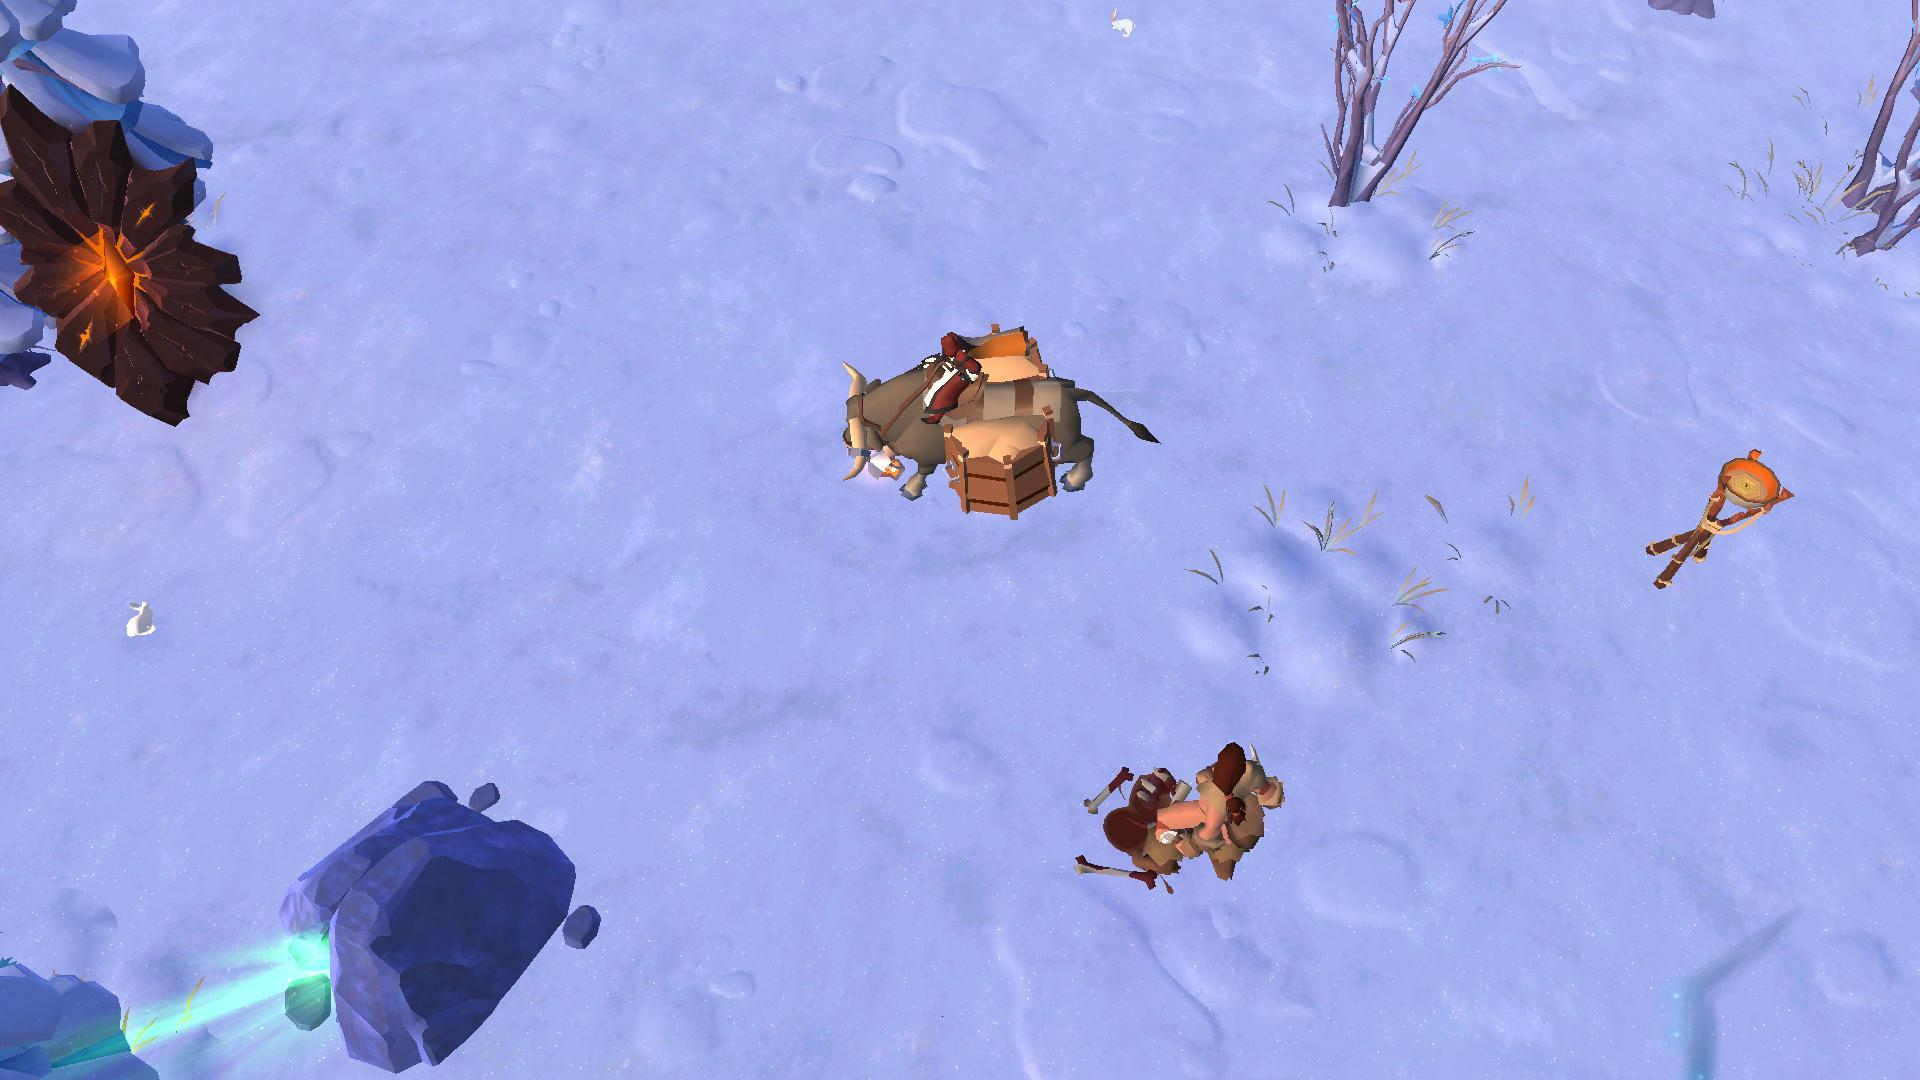enemy_factionKeeper: (1127, 736, 1286, 893)
